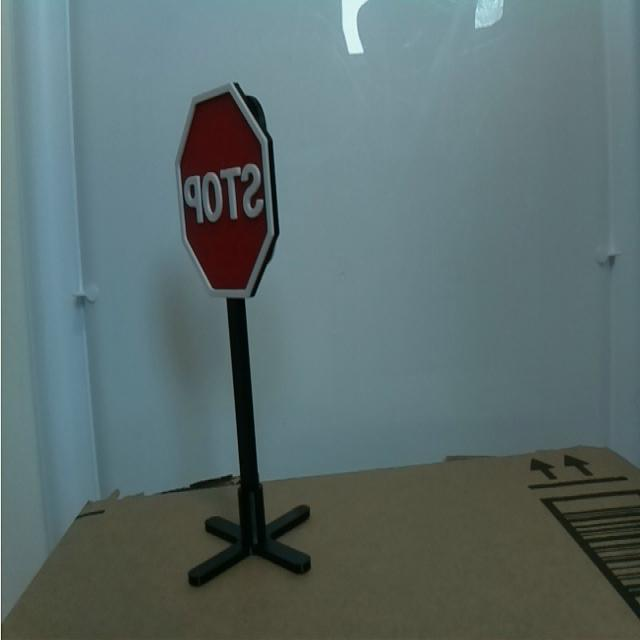sign_stop: (168, 80, 294, 305)
